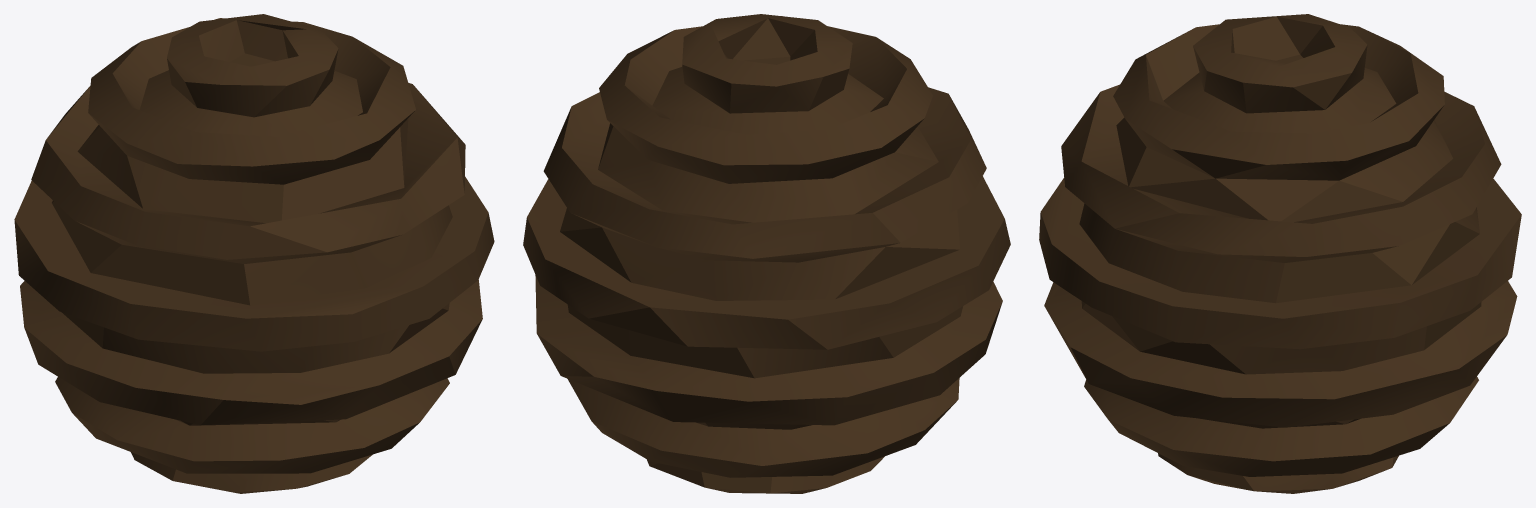
File: PlantPinoSeed.gltf
3 renders of one model, left to right at view 1: azimuth 30°, elevation 25°; view 2: azimuth 150°, elevation 25°; view 3: azimuth 270°, elevation 25°, orthographic.
Parts seen in each view (by area): view 1: Sphere; view 2: Sphere; view 3: Sphere.
Boxes of the visible parts, box(x1,y1,x2,y2) form: Sphere: box(14, 14, 494, 493); Sphere: box(523, 14, 1010, 493); Sphere: box(1039, 14, 1521, 493).
Size of the model in its own units: 0.1485 by 0.1403 by 0.1487.
